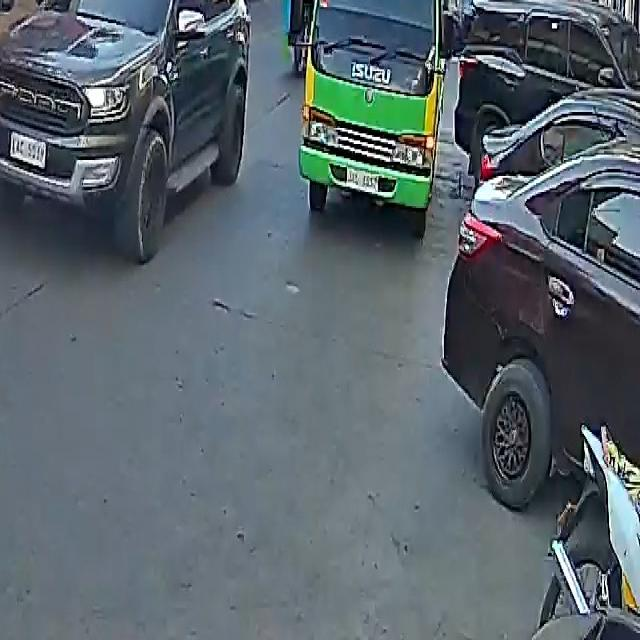car: (442, 54, 640, 534), (0, 0, 253, 263), (450, 0, 640, 185)
